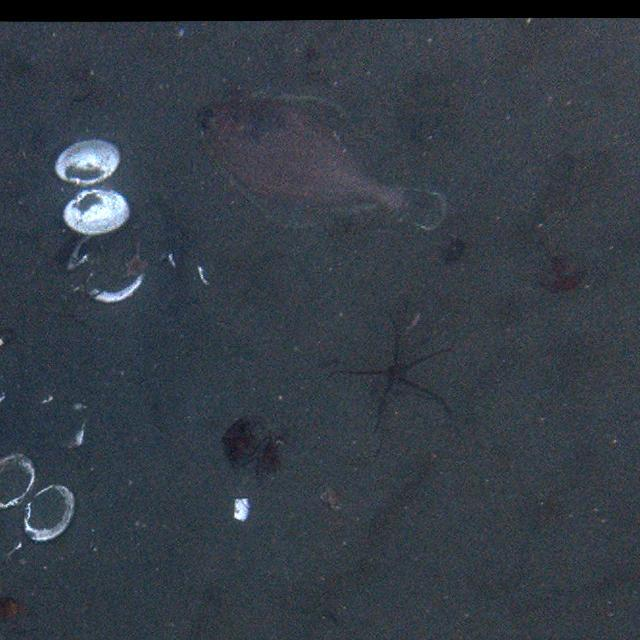flatfish: (191, 86, 450, 249)
